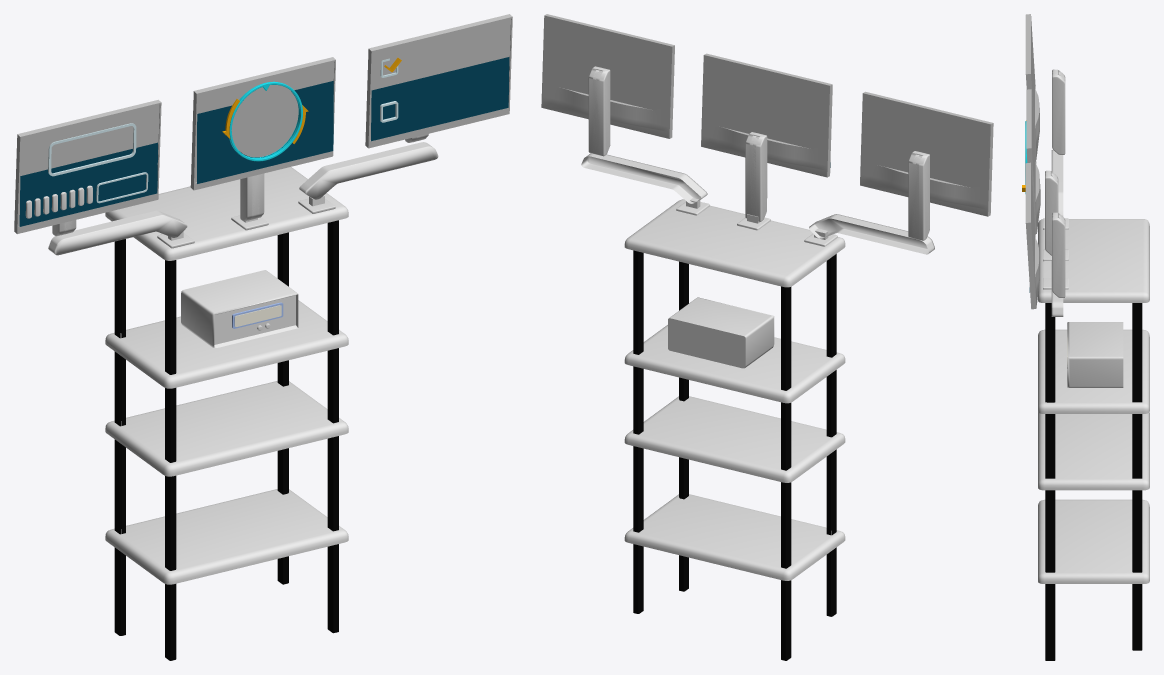
The model's file is torre 1.fbx.
3 renders of one model, left to right at view 1: azimuth 30°, elevation 25°; view 2: azimuth 150°, elevation 25°; view 3: azimuth 270°, elevation 25°, orthographic. The views are drawn at different scales.
Parts seen in each view (by area): view 1: Box007, Box006, Box008, Box005, Cube001, Cube, Cube002, Object_50, Box004, Object_064, Object_3, Object_63 (+8 smaller); view 2: Cube001, Cube002, Cube, Box007, Box006, Box008, Box005, Box004, Object_62, Object_60, Object_61, Line001 (+5 smaller); view 3: Box007, Box008, Box006, Box005, Box004, Object_63, Object_60, Cube, Box015, Box017, Cube001, Cube002 (+3 smaller).
Boxes of the visible parts, box(x1,y1,x2,y2) form: Box007: box(105, 489, 348, 584); Box006: box(105, 381, 348, 476); Box008: box(105, 167, 348, 260); Box005: box(105, 300, 348, 388); Cube001: box(190, 57, 335, 190); Cube: box(365, 14, 512, 148); Cube002: box(14, 99, 161, 233); Object_50: box(371, 57, 509, 141); Box004: box(181, 270, 298, 347); Object_064: box(19, 142, 157, 226); Object_3: box(197, 81, 333, 183); Object_63: box(327, 220, 338, 633); Cube001: box(701, 53, 832, 177); Cube002: box(860, 91, 993, 216); Cube: box(541, 14, 674, 138); Box007: box(624, 494, 845, 580); Box006: box(624, 396, 845, 482); Box008: box(624, 199, 845, 287); Box005: box(624, 325, 845, 403); Box004: box(668, 297, 774, 368); Object_62: box(781, 286, 791, 660); Object_60: box(633, 250, 643, 613); Object_61: box(826, 254, 836, 616); Line001: box(581, 153, 707, 203); Box007: box(1038, 499, 1149, 583); Box008: box(1038, 219, 1149, 302); Box006: box(1038, 412, 1149, 490); Box005: box(1038, 329, 1149, 413); Box004: box(1067, 322, 1123, 387); Object_63: box(1045, 303, 1055, 660); Object_60: box(1132, 303, 1142, 650); Cube: box(1025, 162, 1039, 309); Box015: box(1052, 212, 1065, 297); Box017: box(1052, 69, 1065, 154); Cube001: box(1026, 89, 1040, 233); Cube002: box(1025, 14, 1039, 159).
Bounding box in the file's own units: 73.07 × 82.83 × 18.9.
